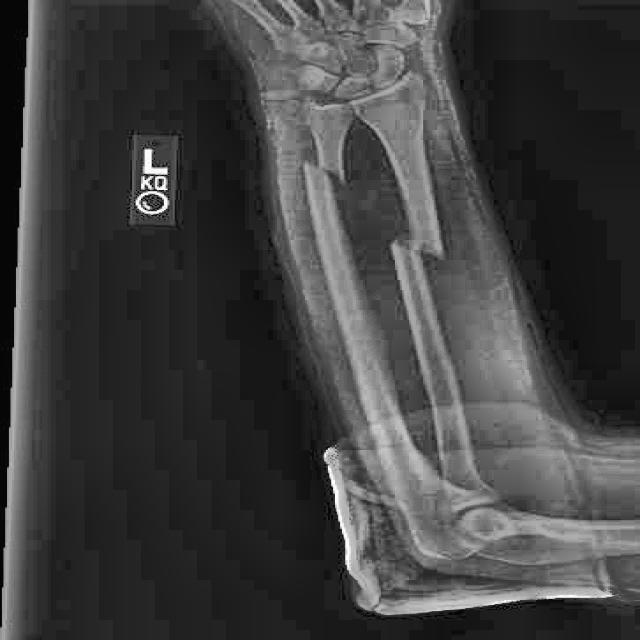forearm fracture: (364, 223, 475, 284), (285, 143, 367, 209)
